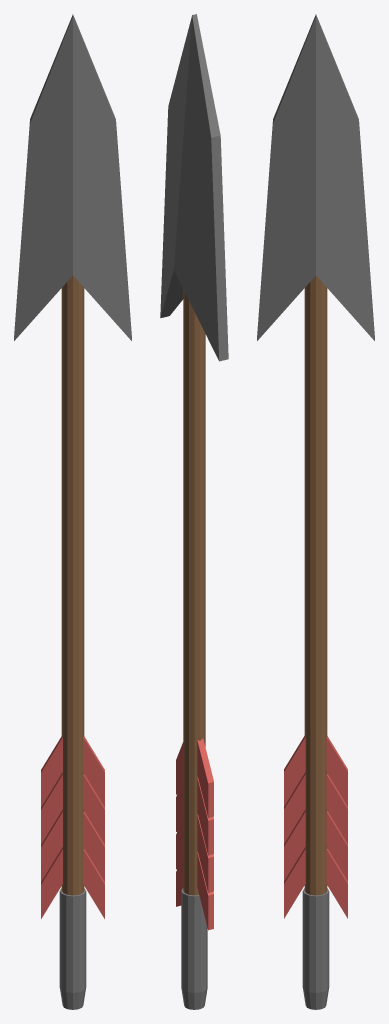
Rendered from arrow.fbx.
3 views of the same model, side by side, from view 1: azimuth 90°, elevation 25°; view 2: azimuth 210°, elevation 25°; view 3: azimuth 270°, elevation 25° (orthographic).
Parts seen in each view (by area): view 1: Cube, Circle, Cube.001; view 2: Cube, Circle, Cube.001; view 3: Cube, Circle, Cube.001.
Boxes of the visible parts, bbox=[...] form: Cube: bbox=[14, 14, 131, 340]; Circle: bbox=[59, 276, 86, 1009]; Cube.001: bbox=[41, 736, 104, 918]; Cube: bbox=[160, 14, 228, 361]; Circle: bbox=[181, 289, 207, 1009]; Cube.001: bbox=[176, 738, 213, 930]; Cube: bbox=[257, 14, 374, 340]; Circle: bbox=[302, 276, 329, 1009]; Cube.001: bbox=[284, 736, 347, 918].
Size of the model in its own units: 1.5 by 34.51 by 3.72.
